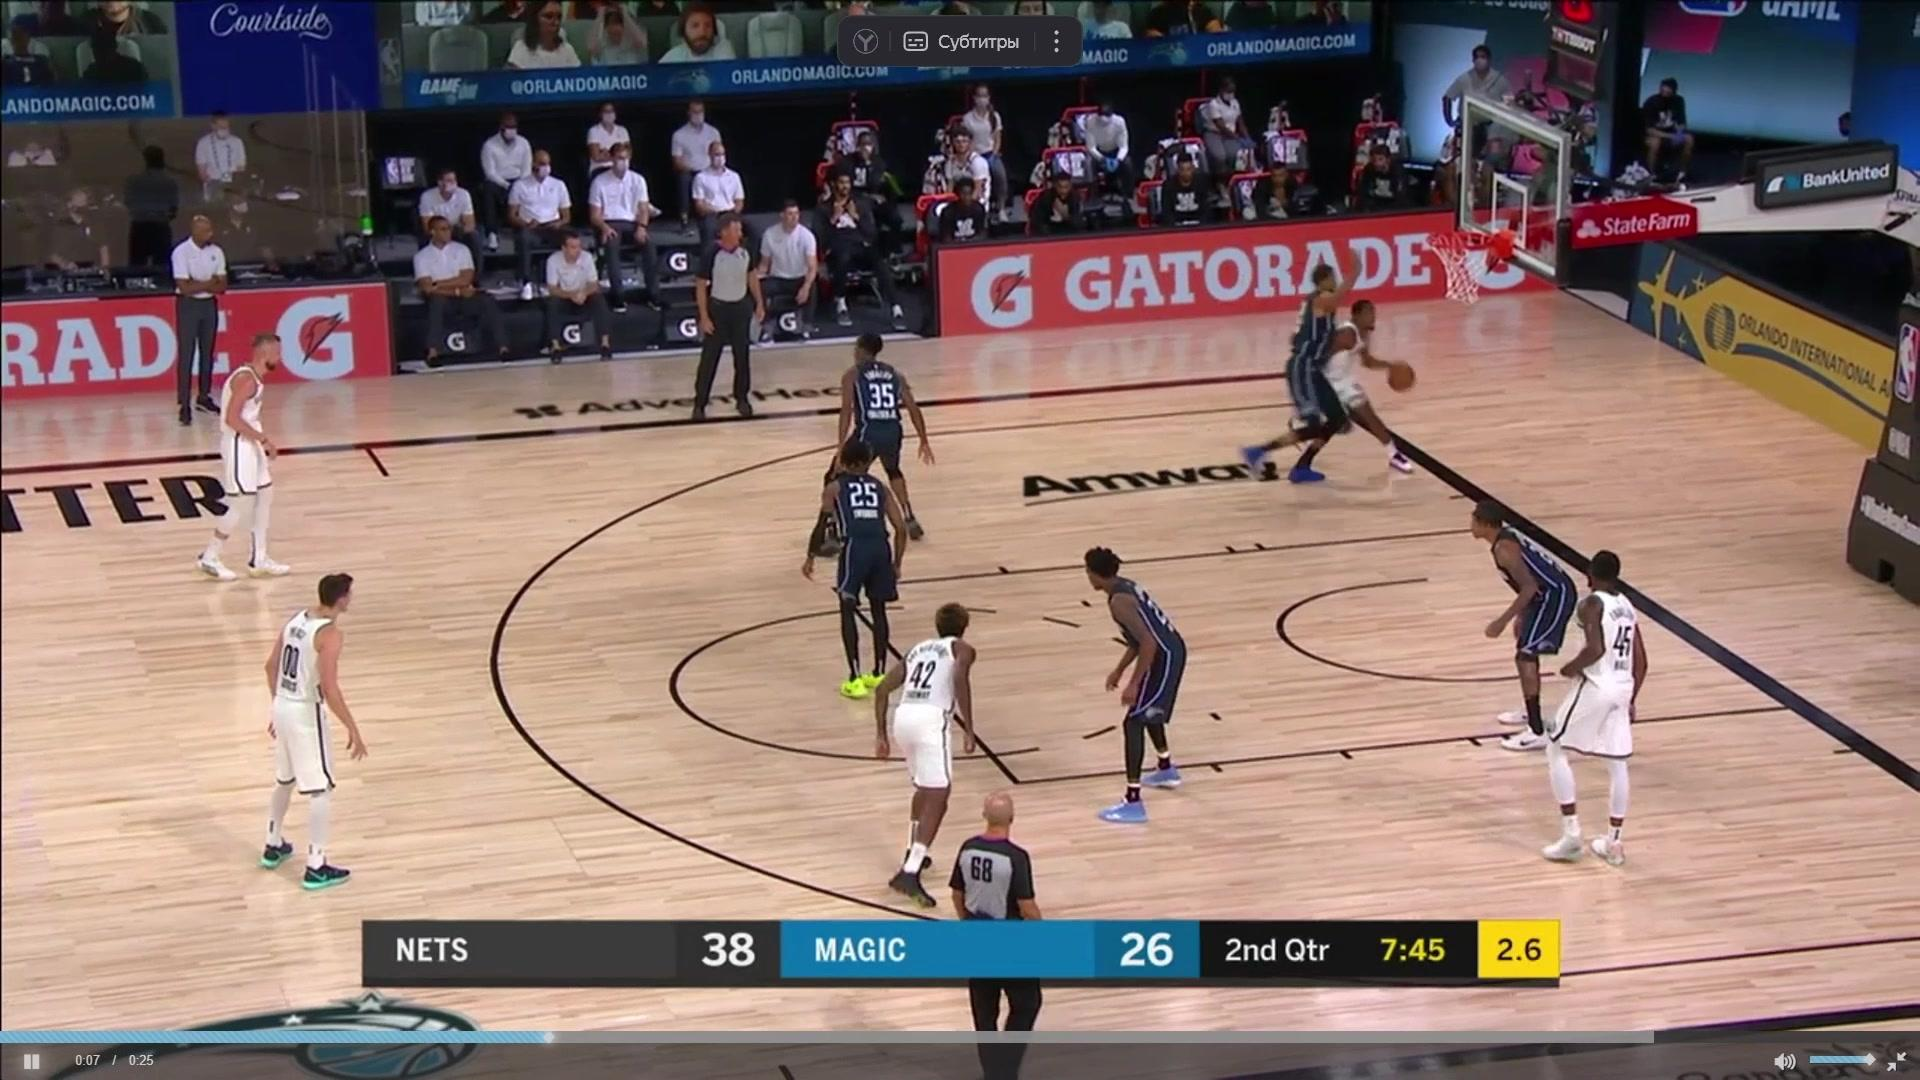no_foul: (1246, 265, 1437, 475)
